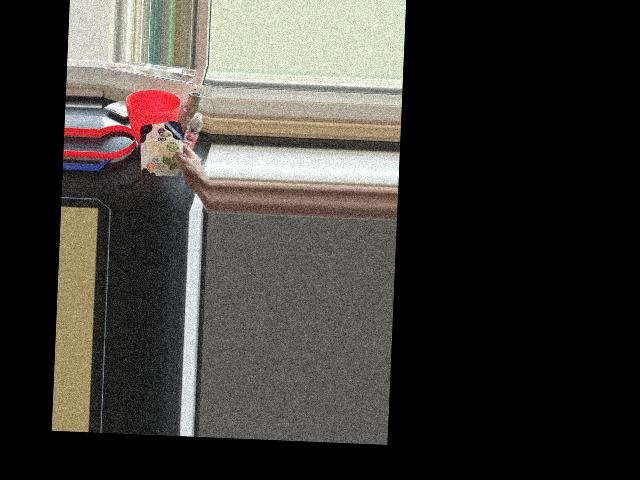cheese: (138, 119, 194, 173)
